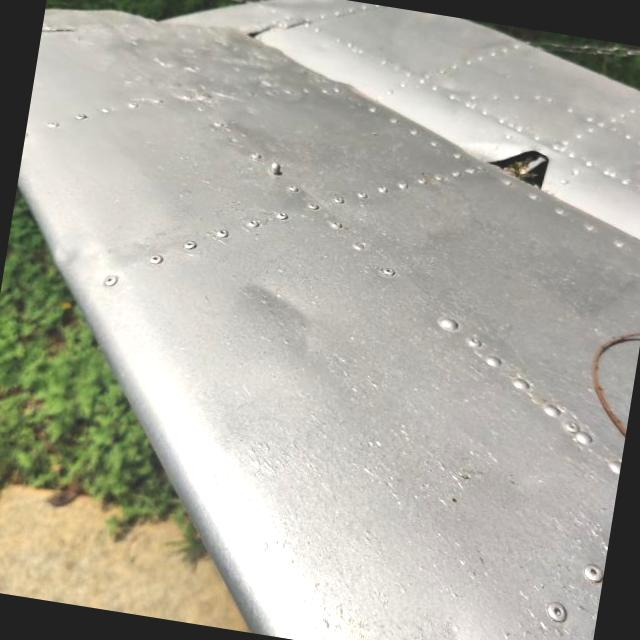dent: (235, 264, 325, 344), (42, 230, 94, 278)
